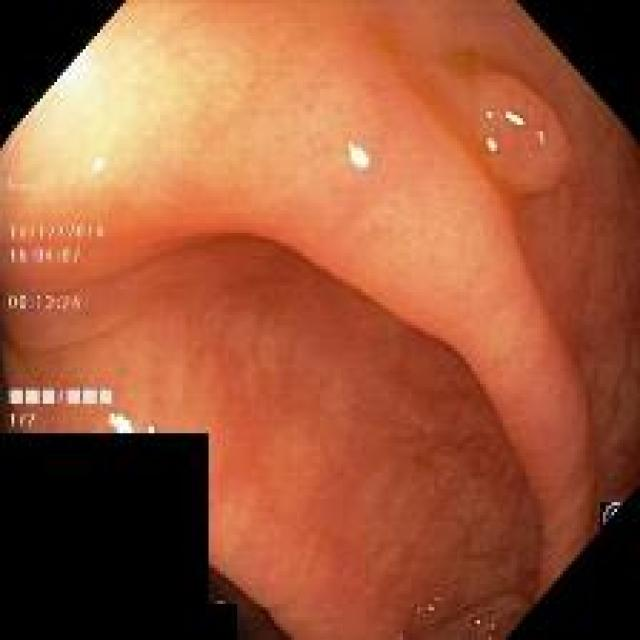Polyps: (466, 72, 570, 195)
